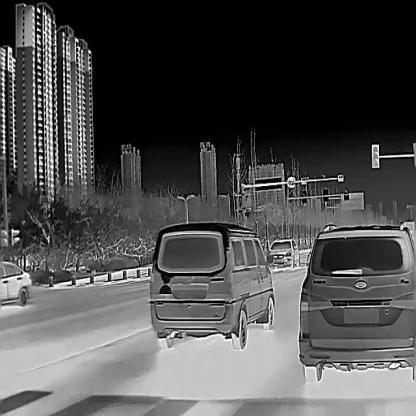car: (297, 222, 416, 382), (148, 220, 274, 349), (0, 260, 31, 305), (265, 237, 299, 269), (404, 220, 414, 232)
